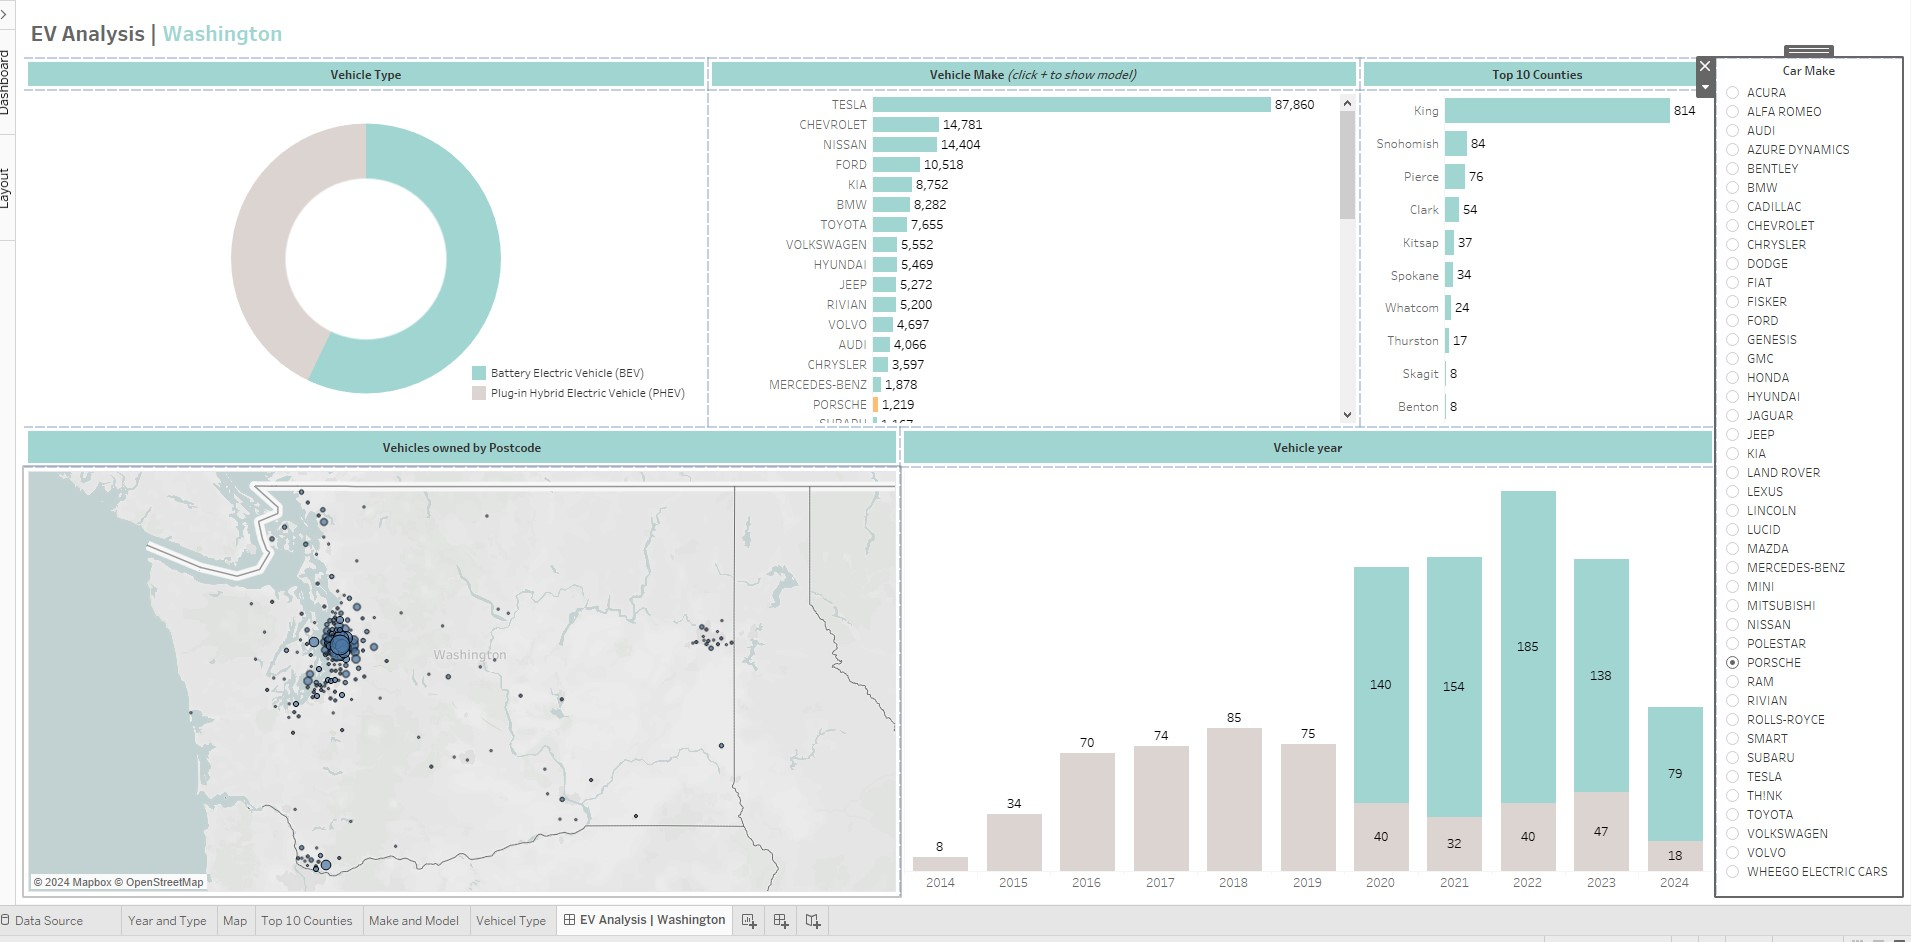

The dashboard page shown, as its layout file describes it:
{"tool":"tableau","page":{"name":"EV Analysis | Washington","canvas":[1000,1000],"units":"permille","ordinal":0},"visuals":[{"type":"text","box":[4.6,8.8,990.9,55.3]},{"type":"text","box":[4.6,64.2,360.8,35.4]},{"type":"text","box":[365.4,64.2,344.2,35.4]},{"type":"text","box":[709.6,64.2,187.5,35.4]},{"type":"parameter","param":"[Parameters].[Parameter 1]","box":[897.1,64.2,98.4,927]},{"type":"worksheet","title":"Vehicel Type","mark":"Pie","rows":["Calculation_328762826386468866","Calculation_328762826386468866"],"box":[4.6,99.6,360.8,372.8]},{"type":"worksheet","title":"Make and Model","mark":"Automatic","rows":["Make"],"cols":["DOL Vehicle ID"],"box":[365.4,99.6,344.2,372.8]},{"type":"worksheet","title":"Top 10 Counties","mark":"Automatic","rows":["County"],"cols":["DOL Vehicle ID"],"box":[709.6,99.6,187.5,372.8]},{"type":"legend","title":"Vehicel Type","param":"[federated.1chbp3z1moxpud1gzi98z0q2eaie].[none:Electric Vehicle Type:nk]","box":[239,401.6,133.8,64.2]},{"type":"text","box":[4.6,472.4,462,44.2]},{"type":"text","box":[466.6,472.4,430.5,44.2]},{"type":"worksheet","title":"Map","mark":"Automatic","box":[4.6,516.6,462,474.6]},{"type":"worksheet","title":"Year and Type","mark":"Bar","rows":["DOL Vehicle ID"],"cols":["Model Year"],"box":[466.6,516.6,430.5,474.6]}]}

Visuals, with their boxes on the dashboard's canvas, which has no fixed pixel size, in thousandths of its width and height (x1, y1, x2, y2). These are canvas units, not pixel positions in the 1911x942 screenshot, which may show the page scaled, cropped or inside an application window:
text: region(5, 9, 996, 64)
text: region(5, 64, 365, 100)
text: region(365, 64, 710, 100)
text: region(710, 64, 897, 100)
parameter: region(897, 64, 996, 991)
"Vehicel Type" worksheet (Pie marks): region(5, 100, 365, 472)
"Make and Model" worksheet: region(365, 100, 710, 472)
"Top 10 Counties" worksheet: region(710, 100, 897, 472)
"Vehicel Type" legend: region(239, 402, 373, 466)
text: region(5, 472, 467, 517)
text: region(467, 472, 897, 517)
"Map" worksheet: region(5, 517, 467, 991)
"Year and Type" worksheet (Bar marks): region(467, 517, 897, 991)
